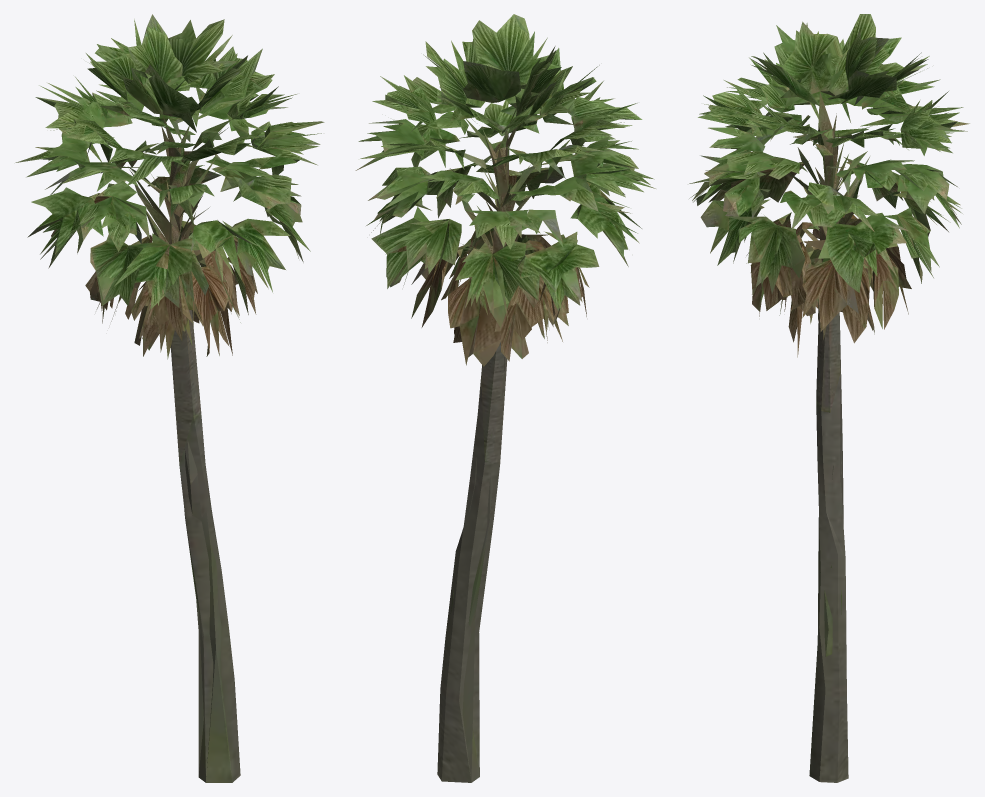
The model's file is palm.glb.
3 views of the same model, side by side, from view 1: azimuth 30°, elevation 25°; view 2: azimuth 150°, elevation 25°; view 3: azimuth 270°, elevation 25° (orthographic). The views are drawn at different scales.
Bounding box in the file's own units: 0.6823 × 1.86 × 0.6677.
1 material, 1 textured.
